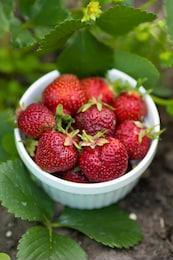Fresa: (75, 130, 131, 185), (33, 127, 80, 176), (41, 70, 87, 117), (112, 117, 152, 164), (16, 98, 60, 140), (77, 98, 117, 137), (113, 85, 150, 126)
